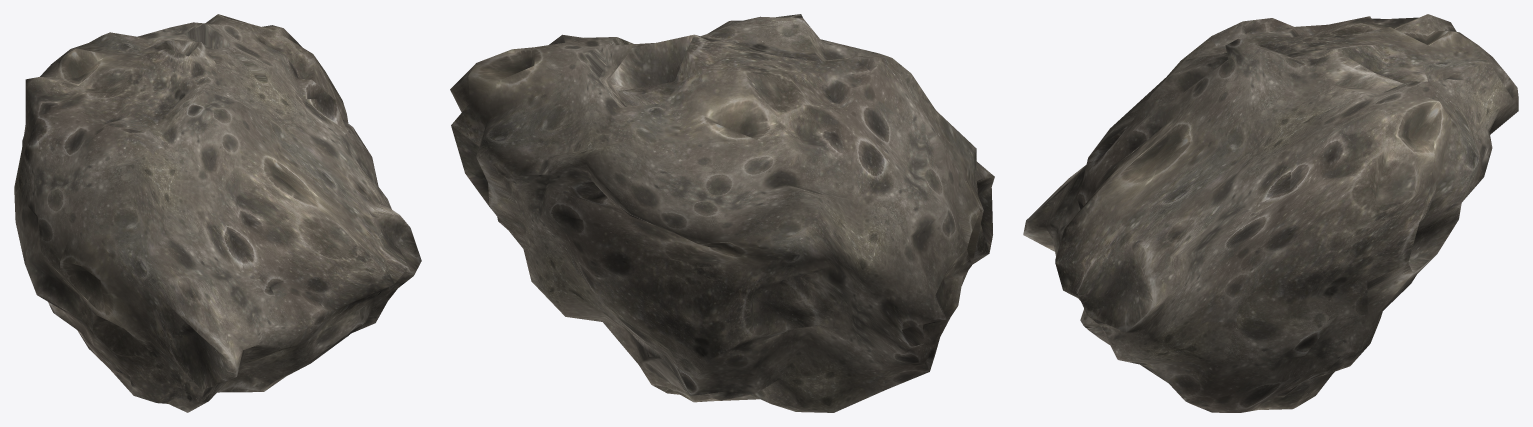
The model's file is Asteroid_03_L1.FBX.
3 views of the same model, side by side, from view 1: azimuth 30°, elevation 25°; view 2: azimuth 150°, elevation 25°; view 3: azimuth 270°, elevation 25° (orthographic). The views are drawn at different scales.
Parts seen in each view (by area): view 1: Asteroid; view 2: Asteroid; view 3: Asteroid.
Part boxes in pixels (left/top/right/bottom): Asteroid: left=14, top=14, right=421, bottom=412; Asteroid: left=450, top=14, right=994, bottom=412; Asteroid: left=1023, top=14, right=1518, bottom=412.
Bounding box in the file's own units: 2.71 × 2.33 × 3.04.
